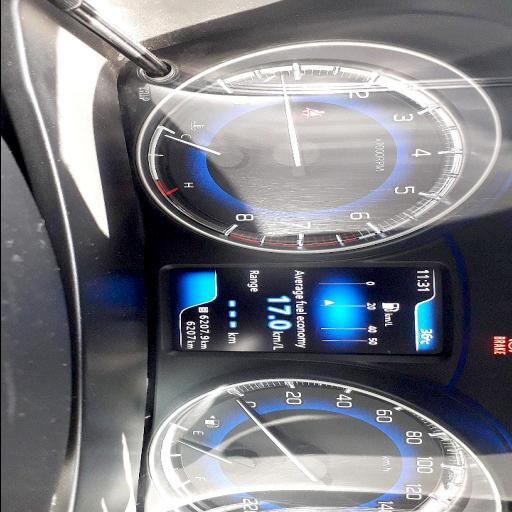tachometer: (143, 60, 469, 252)
